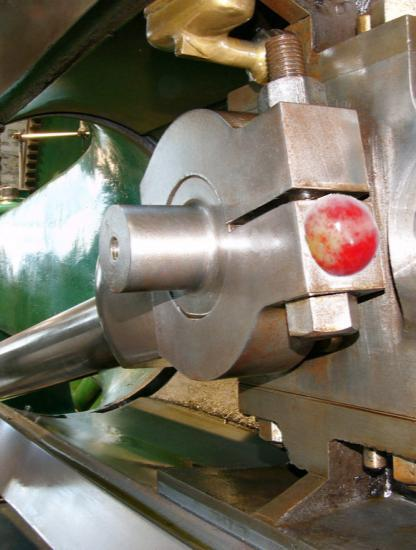Cherry: (300, 192, 386, 278)
